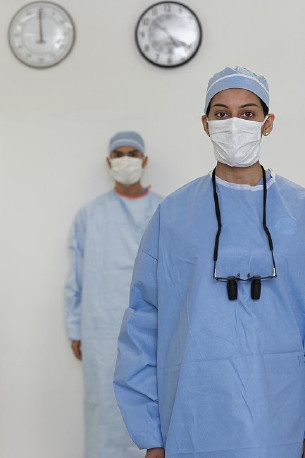Mask: (209, 101, 266, 158)
